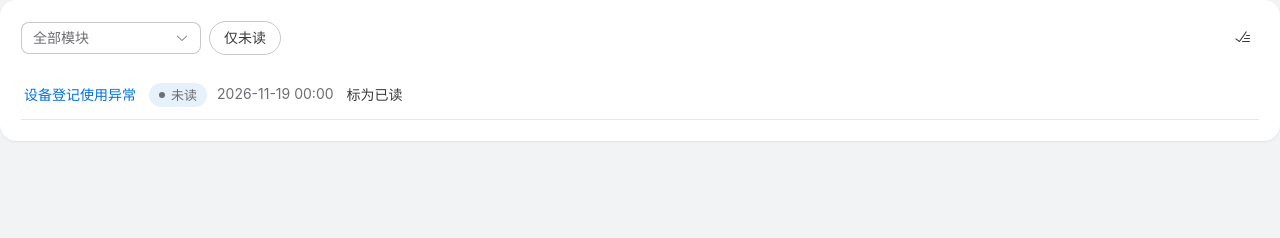
Scenario: marks visible account notifications read and reloads the unread page
This screenshot has width=1280, height=238.
Click the checkbox labelled "仅未读" at (245, 38), box x1=209 y1=21 x2=281 y2=55
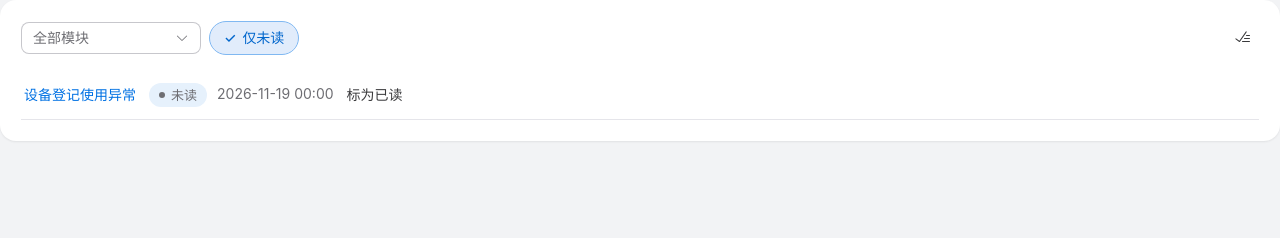
Click the button named "全部标为已读" at (1243, 37), box x1=1227 y1=21 x2=1259 y2=53
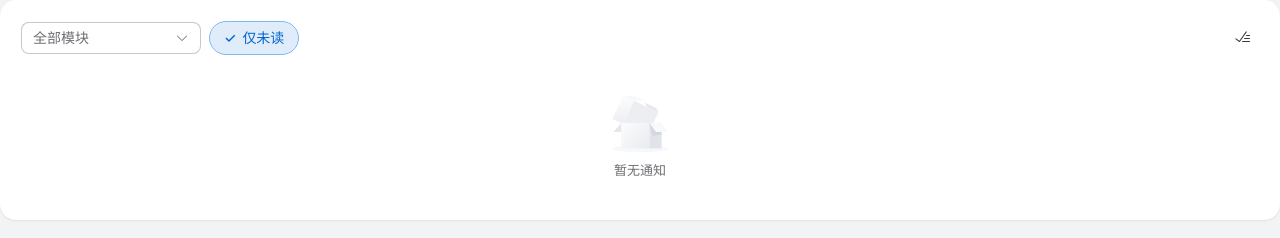
Now the text "暂无通知" is shown, box x1=614 y1=160 x2=666 y2=179
